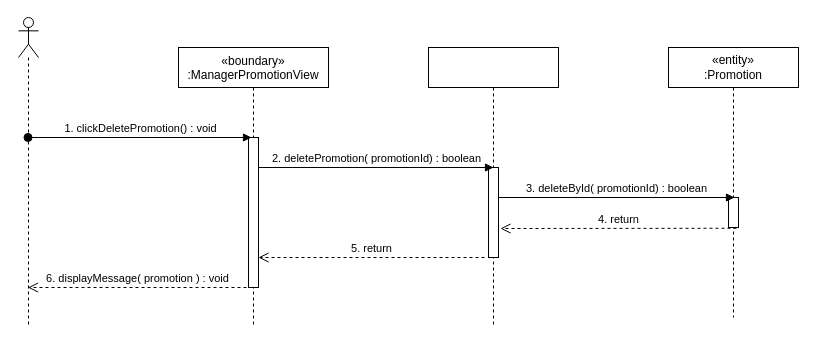
Image size: 816x345. Some labels were removed from this diagram. The box of each missing label's shape, as (x1, y1, x2, y2) in pixels:
Quản trị viên: (18, 16, 38, 328)
«control» :PromotionController: (428, 46, 558, 328)
